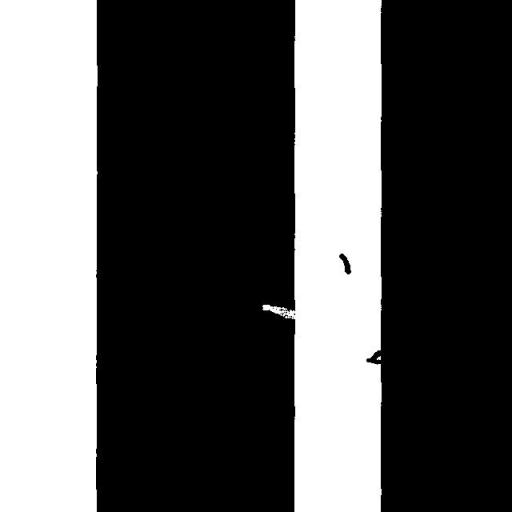copper: (332, 246, 358, 282)
mousebite: (254, 297, 305, 326)
spur: (358, 342, 396, 372)
